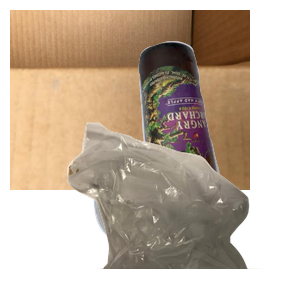cardboard: (10, 10, 250, 190)
glass: (136, 39, 300, 219)
plastic: (91, 152, 281, 300)
trash: (65, 120, 300, 300)
